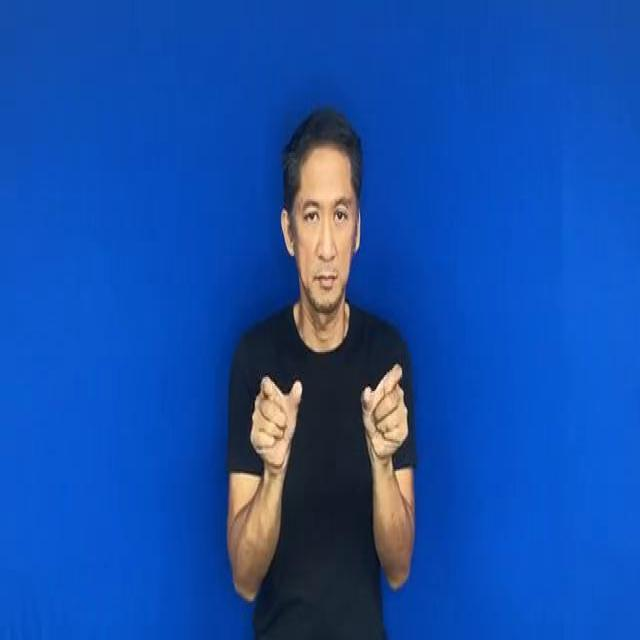crab: (238, 367, 312, 467), (354, 363, 421, 469)
